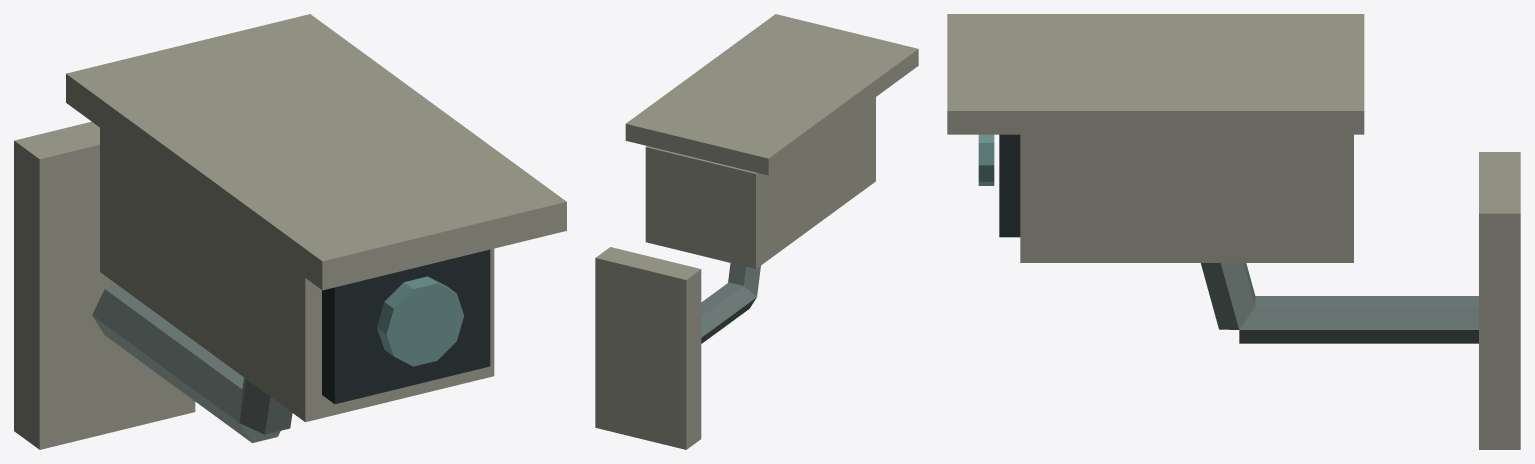
3 views of the same model, side by side, from view 1: azimuth 30°, elevation 25°; view 2: azimuth 150°, elevation 25°; view 3: azimuth 270°, elevation 25° (orthographic). The views are drawn at different scales.
Visible parts, largest first — view 1: a78; view 2: a78; view 3: a78.
Part boxes in pixels (bbox=[...]): a78: bbox=[14, 14, 566, 449]; a78: bbox=[595, 14, 918, 449]; a78: bbox=[947, 14, 1520, 449].
Size of the model in its own units: 0.22 by 0.3775 by 0.55.
